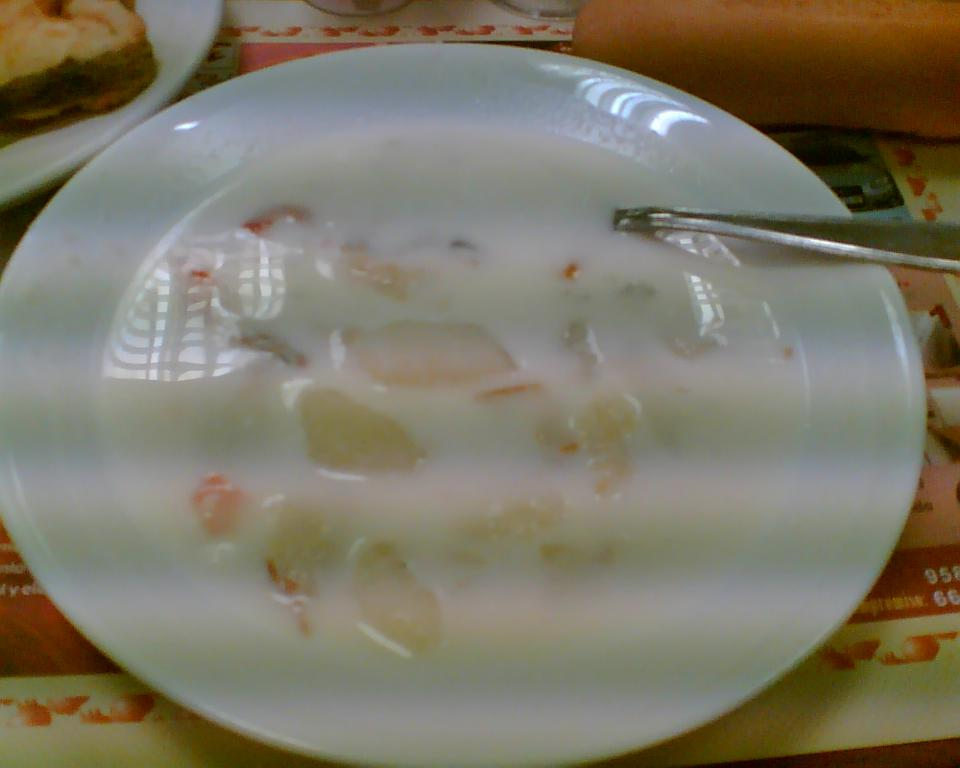plate: (1, 33, 935, 744)
